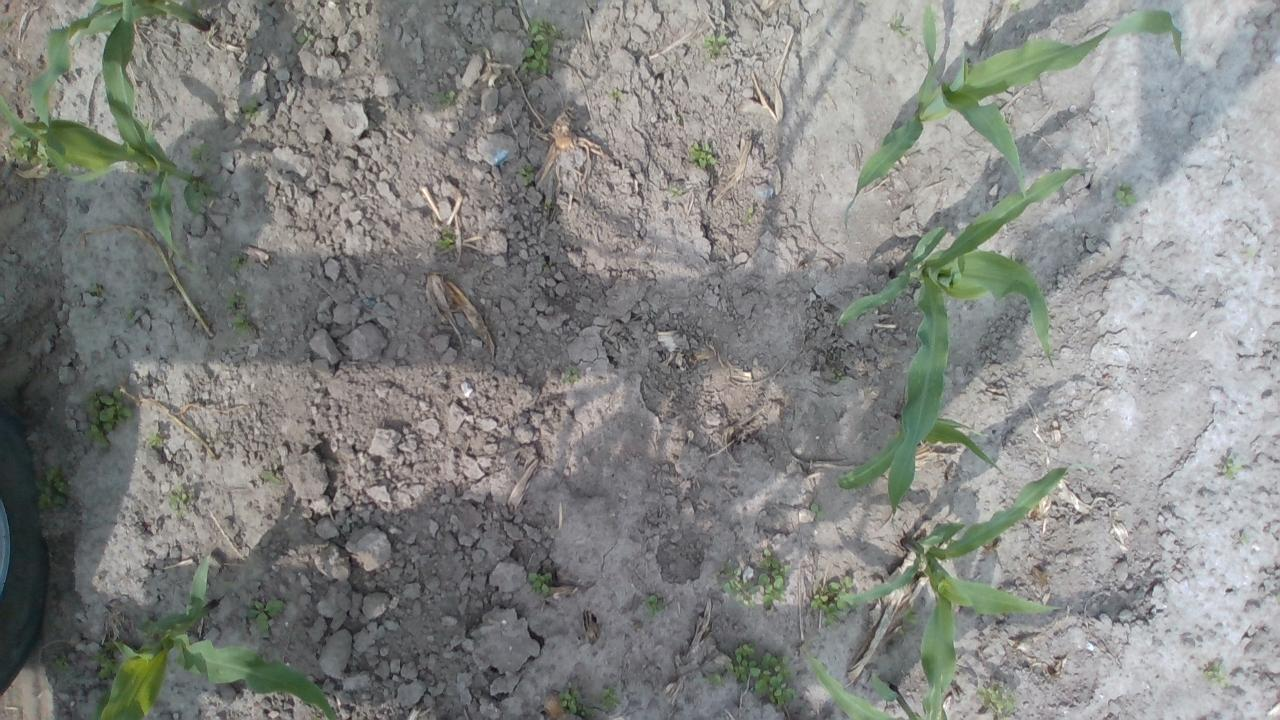Maize: (838, 161, 1097, 532), (840, 0, 1184, 234), (839, 463, 1100, 720), (0, 0, 204, 269), (99, 554, 342, 720), (29, 0, 209, 123), (837, 407, 1003, 487), (798, 645, 947, 720)
Weeds: (726, 639, 800, 705), (81, 386, 134, 450), (751, 546, 791, 608), (520, 15, 560, 76), (810, 575, 856, 626), (5, 124, 48, 169), (720, 558, 756, 609), (38, 466, 72, 511), (975, 684, 1017, 720), (246, 599, 286, 634), (86, 640, 120, 680), (224, 287, 250, 335), (558, 686, 592, 720), (189, 142, 215, 176), (688, 140, 715, 170), (528, 570, 554, 599), (1203, 662, 1230, 688), (1111, 181, 1138, 206), (1220, 456, 1244, 481), (597, 686, 620, 711), (168, 489, 192, 511), (703, 32, 728, 52), (196, 182, 216, 206), (646, 591, 664, 617), (294, 28, 316, 47), (518, 162, 534, 187), (901, 605, 920, 626), (432, 89, 456, 105), (243, 96, 259, 120), (50, 655, 70, 674), (892, 14, 908, 36), (709, 670, 726, 689), (261, 471, 281, 486), (809, 501, 824, 520), (146, 432, 163, 448), (438, 233, 454, 250), (230, 254, 243, 273), (567, 366, 579, 384), (89, 280, 102, 296), (1007, 0, 1024, 12), (830, 371, 844, 384), (608, 87, 622, 98), (124, 310, 138, 320), (671, 186, 680, 196)
